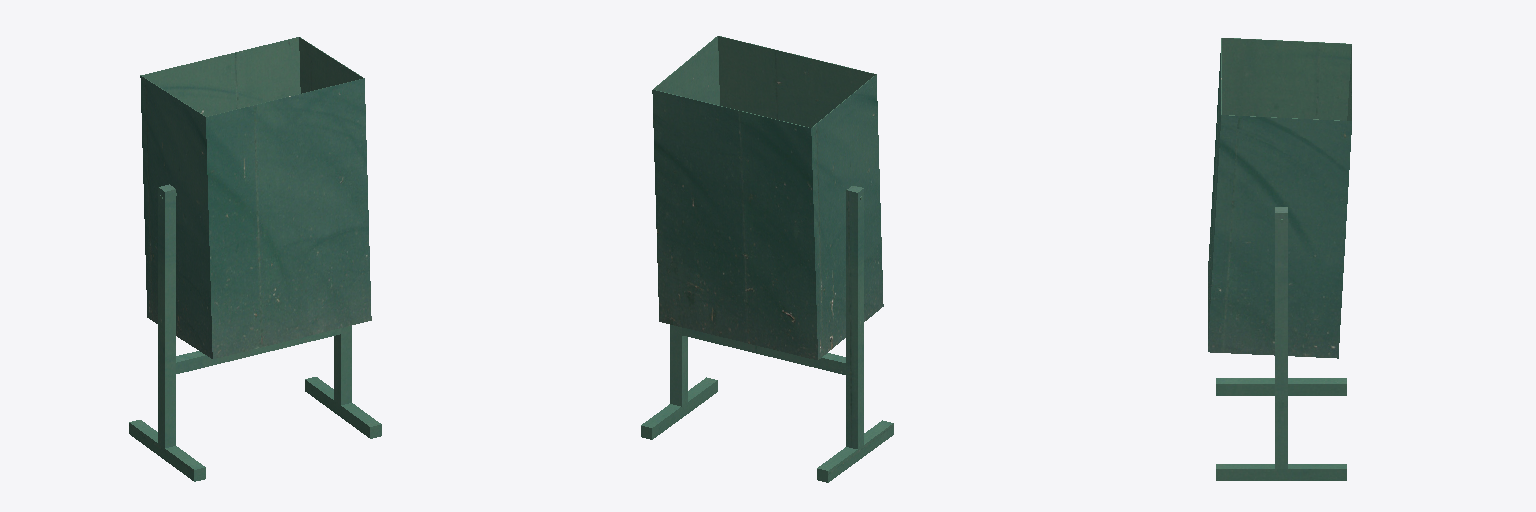
3 views of the same model, side by side, from view 1: azimuth 30°, elevation 25°; view 2: azimuth 150°, elevation 25°; view 3: azimuth 270°, elevation 25° (orthographic).
Visible parts, largest first — view 1: bin; view 2: bin; view 3: bin.
Part boxes in pixels (left/top/right/bottom): bin: left=129, top=37, right=381, bottom=481; bin: left=641, top=36, right=893, bottom=482; bin: left=1208, top=38, right=1351, bottom=480.
Bounding box in the file's own units: 0.3333 × 0.605 × 0.2206.
Materials: 1 (1 with a texture image).